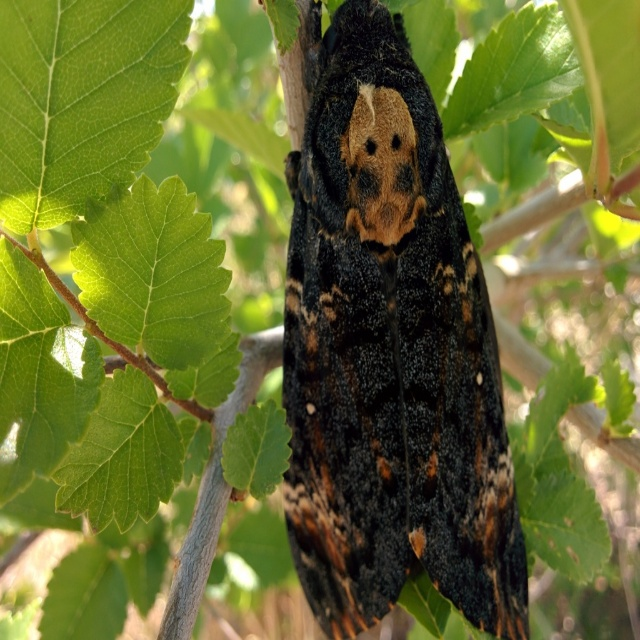Butterfly: (269, 28, 518, 638)
